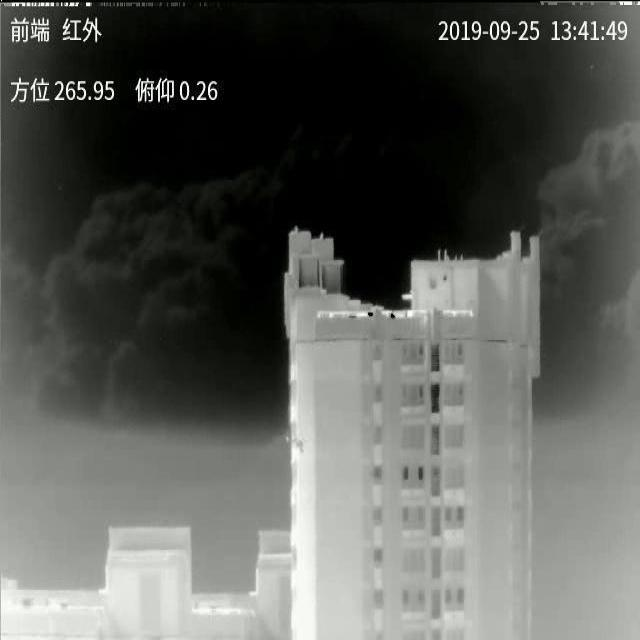drone: (285, 436, 311, 454)
